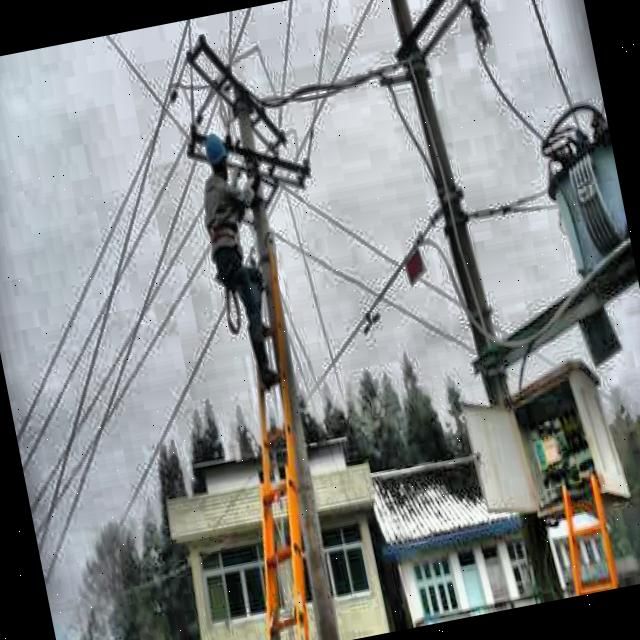helmet: (196, 124, 234, 187)
